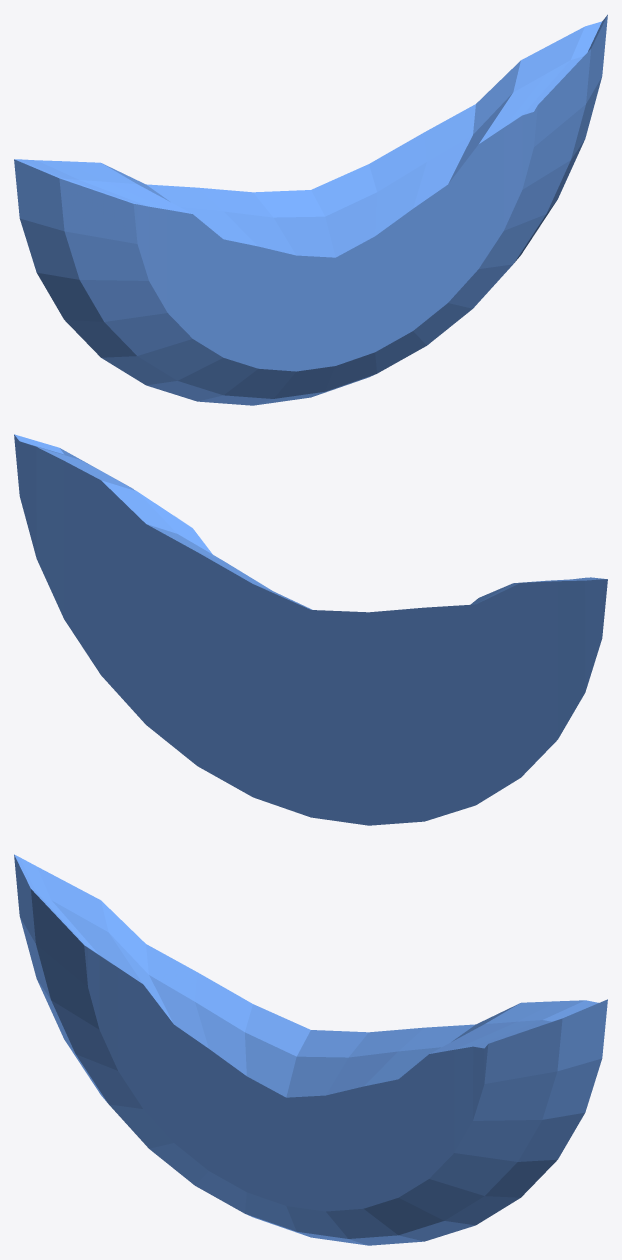
File: Pi Mouth.fbx
3 renders of one model, top to bottom at view 1: azimuth 30°, elevation 25°; view 2: azimuth 150°, elevation 25°; view 3: azimuth 330°, elevation 25°, orthographic.
Visible parts, largest first — view 1: Pi Mouth; view 2: Pi Mouth; view 3: Pi Mouth.
Part boxes in pixels (x1=…): Pi Mouth: x1=14, y1=14, x2=607, y2=405; Pi Mouth: x1=14, y1=434, x2=607, y2=825; Pi Mouth: x1=14, y1=854, x2=607, y2=1245.
Size of the model in its own units: 44.76 by 22.38 by 3.26.
